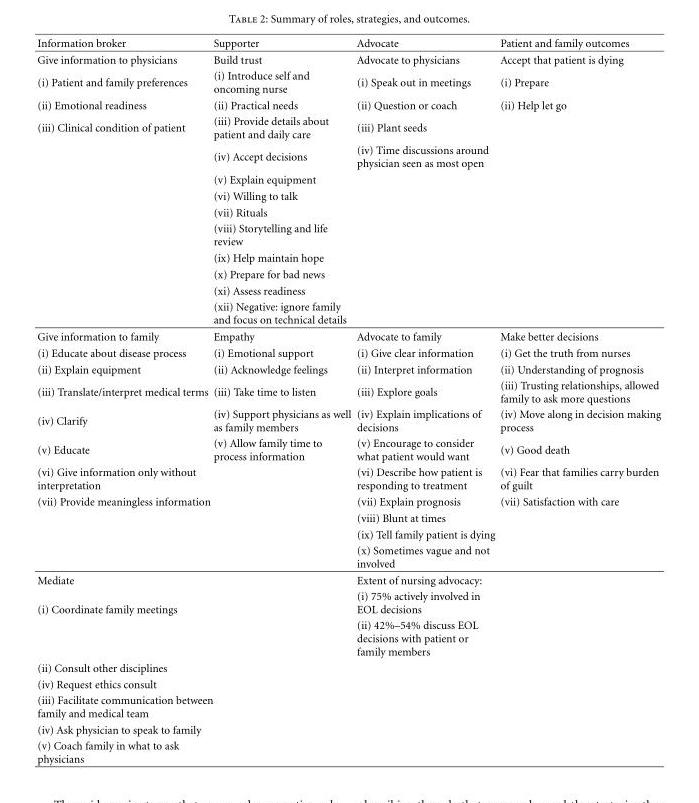table: (36, 36, 660, 764)
table column: (36, 36, 212, 764), (496, 36, 660, 764), (353, 36, 496, 764), (212, 36, 353, 764)
table column header: (36, 36, 660, 51)
table projected row header: (36, 692, 660, 721), (36, 675, 660, 692), (36, 659, 660, 675), (36, 721, 660, 737)
table row: (36, 616, 660, 659), (36, 141, 660, 171), (36, 463, 660, 493), (36, 67, 660, 96), (36, 112, 660, 141), (36, 220, 660, 249), (36, 298, 660, 327), (36, 377, 660, 406), (36, 434, 660, 463), (36, 542, 660, 571), (36, 692, 660, 721), (36, 406, 660, 434), (36, 588, 660, 616), (36, 737, 660, 764), (36, 187, 660, 204), (36, 265, 660, 282), (36, 327, 660, 344), (36, 344, 660, 361), (36, 509, 660, 526), (36, 571, 660, 588), (36, 675, 660, 692), (36, 51, 660, 67), (36, 96, 660, 112), (36, 171, 660, 187), (36, 204, 660, 220), (36, 249, 660, 265), (36, 282, 660, 298), (36, 361, 660, 377), (36, 493, 660, 509), (36, 526, 660, 542), (36, 659, 660, 675), (36, 721, 660, 737), (36, 36, 660, 51)
table spanning cell: (36, 112, 212, 327), (36, 493, 212, 571), (36, 588, 212, 659)
